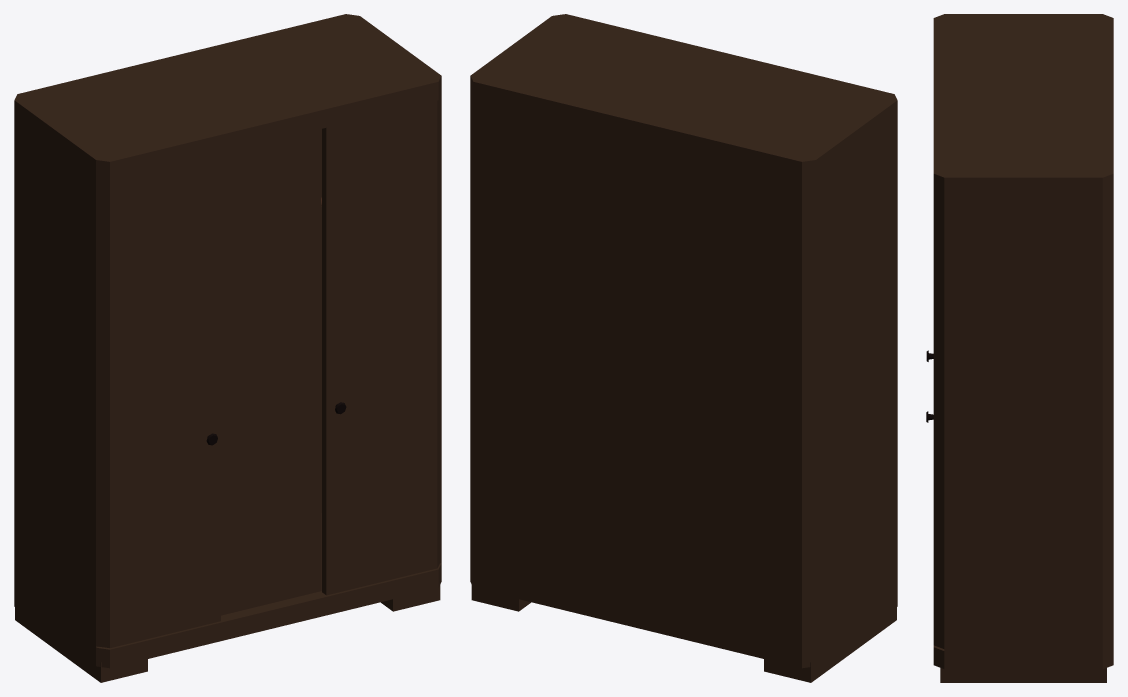
File: Shkaf_3xDveri.FBX
3 views of the same model, side by side, from view 1: azimuth 30°, elevation 25°; view 2: azimuth 150°, elevation 25°; view 3: azimuth 270°, elevation 25° (orthographic). The views are drawn at different scales.
Parts seen in each view (by area): view 1: Shkaf_3xDveri(185x103x60)_001, Skaf_3xdveri_door1, Skaf_3xdveri_door3, Skaf_3xdveri_door2_01; view 2: Shkaf_3xDveri(185x103x60)_001; view 3: Shkaf_3xDveri(185x103x60)_001, Skaf_3xdveri_door3.
Part boxes in pixels (x1,y1,x2,y2): Shkaf_3xDveri(185x103x60)_001: (14,14,441,682); Skaf_3xdveri_door1: (96,153,220,648); Skaf_3xdveri_door3: (322,97,440,595); Skaf_3xdveri_door2_01: (221,129,321,615); Shkaf_3xDveri(185x103x60)_001: (470,14,897,682); Shkaf_3xDveri(185x103x60)_001: (933,14,1113,682); Skaf_3xdveri_door3: (926,192,944,648).
Size of the model in its own units: 324 by 468 by 156.
